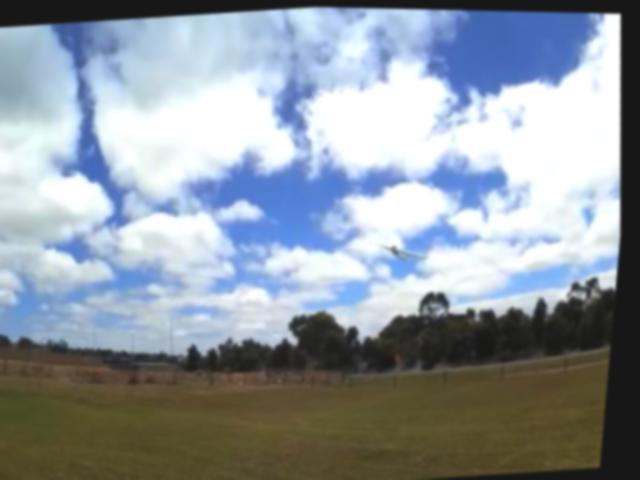uav: (366, 219, 438, 273)
